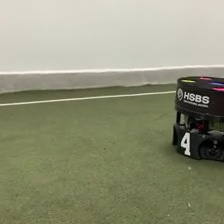robot: (170, 74, 224, 161)
